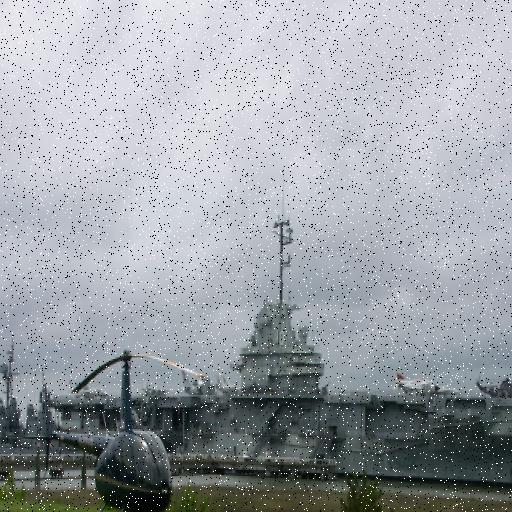Portanaves: (67, 201, 512, 508)
